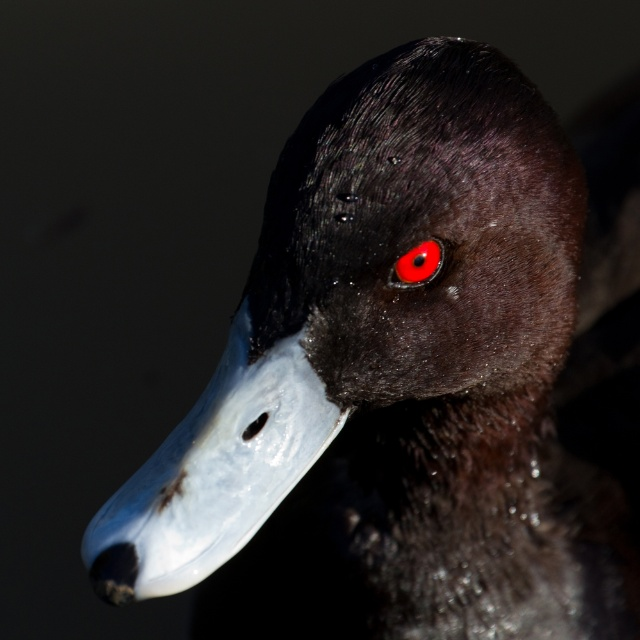Duck: (71, 39, 633, 638)
